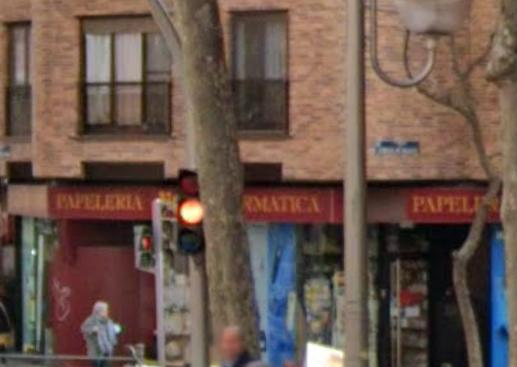yellow_light: (177, 169, 204, 255)
